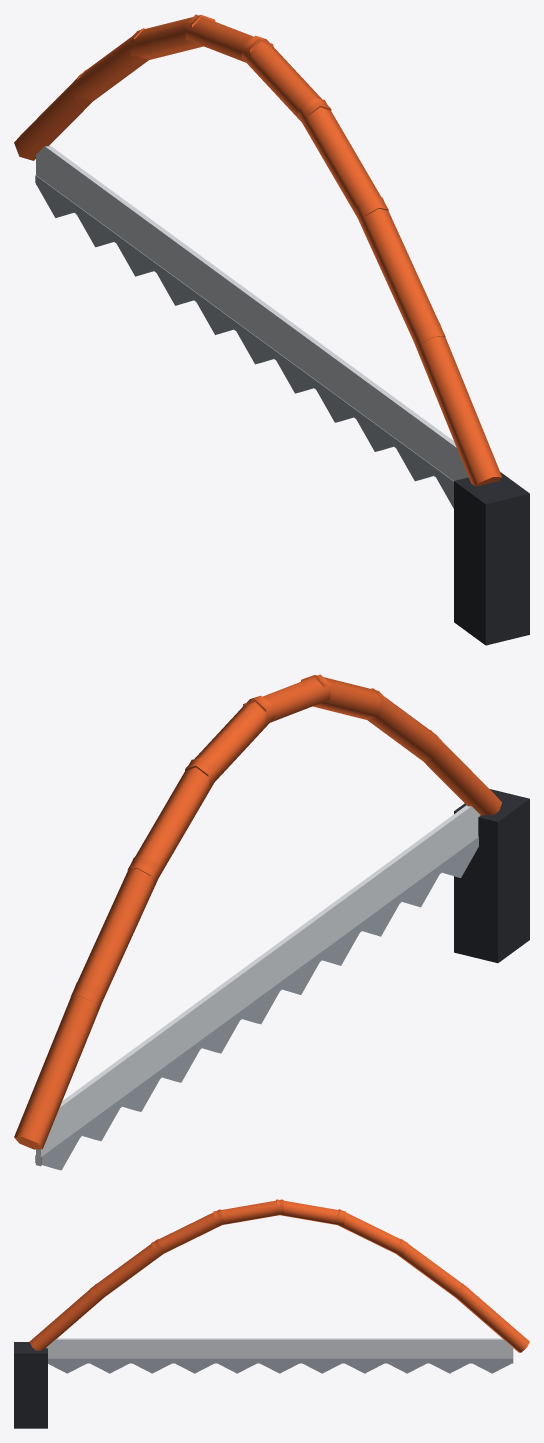
The model's file is tool_saw.glb.
3 views of the same model, one above another, from view 1: azimuth 30°, elevation 25°; view 2: azimuth 150°, elevation 25°; view 3: azimuth 270°, elevation 25° (orthographic). The views are drawn at different scales.
Visible parts, largest first — view 1: _MeshInstance3D_964, _MeshInstance3D_963, _MeshInstance3D_965, _MeshInstance3D_966, _MeshInstance3D_967, _MeshInstance3D_968, _MeshInstance3D_969, _MeshInstance3D_973, _MeshInstance3D_972, _MeshInstance3D_971, _MeshInstance3D_970; view 2: _MeshInstance3D_964, _MeshInstance3D_963, _MeshInstance3D_965, _MeshInstance3D_973, _MeshInstance3D_972, _MeshInstance3D_971, _MeshInstance3D_970, _MeshInstance3D_966, _MeshInstance3D_967, _MeshInstance3D_969, _MeshInstance3D_968; view 3: _MeshInstance3D_964, _MeshInstance3D_965, _MeshInstance3D_963, _MeshInstance3D_966, _MeshInstance3D_973, _MeshInstance3D_967, _MeshInstance3D_972, _MeshInstance3D_971, _MeshInstance3D_968, _MeshInstance3D_969, _MeshInstance3D_970.
Boxes of the visible parts, <box> form: _MeshInstance3D_964: <box>36,145,468,480</box>; _MeshInstance3D_963: <box>454,472,529,645</box>; _MeshInstance3D_965: <box>35,175,453,508</box>; _MeshInstance3D_966: <box>411,322,501,486</box>; _MeshInstance3D_967: <box>354,196,445,343</box>; _MeshInstance3D_968: <box>297,98,388,224</box>; _MeshInstance3D_969: <box>241,35,331,121</box>; _MeshInstance3D_973: <box>14,70,92,160</box>; _MeshInstance3D_972: <box>71,28,148,101</box>; _MeshInstance3D_971: <box>127,15,215,59</box>; _MeshInstance3D_970: <box>185,14,273,62</box>; _MeshInstance3D_964: <box>36,805,480,1166</box>; _MeshInstance3D_963: <box>454,789,529,963</box>; _MeshInstance3D_965: <box>35,836,478,1170</box>; _MeshInstance3D_973: <box>14,982,104,1149</box>; _MeshInstance3D_972: <box>70,856,159,1008</box>; _MeshInstance3D_971: <box>127,758,217,884</box>; _MeshInstance3D_970: <box>185,695,274,786</box>; _MeshInstance3D_966: <box>423,730,502,815</box>; _MeshInstance3D_967: <box>367,688,445,761</box>; _MeshInstance3D_969: <box>243,674,331,723</box>; _MeshInstance3D_968: <box>301,675,388,719</box>; _MeshInstance3D_964: <box>46,1338,513,1363</box>; _MeshInstance3D_965: <box>48,1358,513,1373</box>; _MeshInstance3D_963: <box>14,1342,47,1428</box>; _MeshInstance3D_966: <box>29,1284,104,1350</box>; _MeshInstance3D_973: <box>455,1284,529,1352</box>; _MeshInstance3D_967: <box>90,1239,164,1297</box>; _MeshInstance3D_972: <box>396,1239,468,1300</box>; _MeshInstance3D_971: <box>335,1209,407,1255</box>; _MeshInstance3D_968: <box>151,1209,224,1253</box>; _MeshInstance3D_969: <box>213,1199,284,1225</box>; _MeshInstance3D_970: <box>275,1199,345,1225</box>.
Bounding box in the file's own units: 0.036 × 0.3269 × 0.6844.
